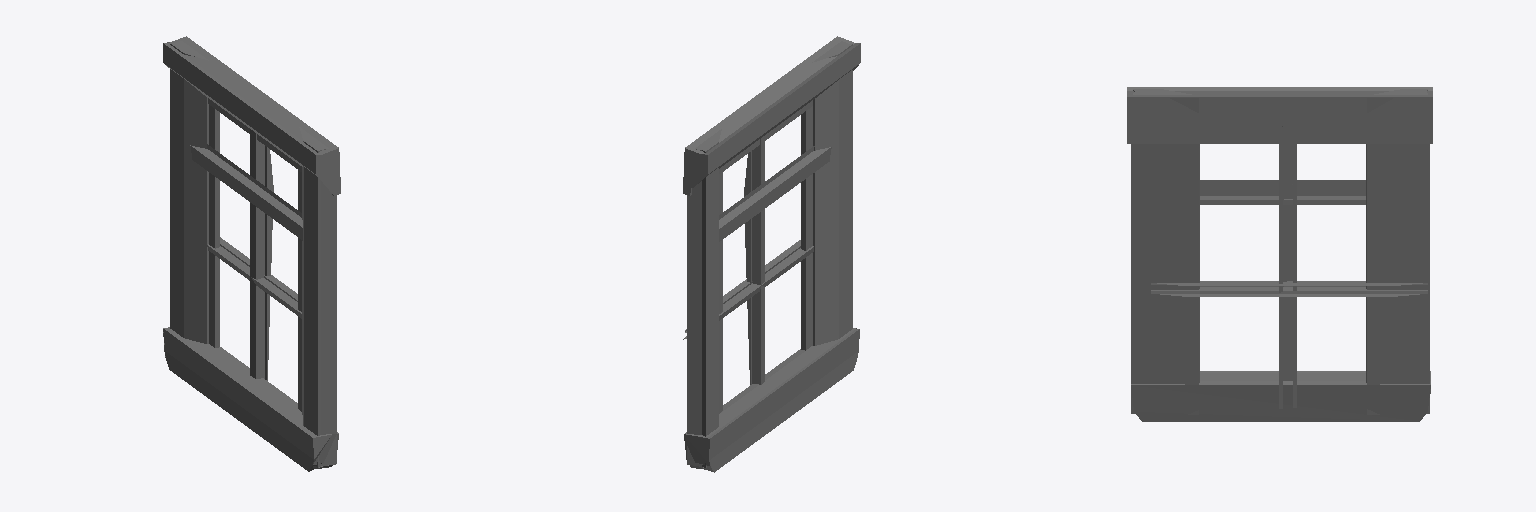
The model's file is complexwindow.obj.
3 views of the same model, side by side, from view 1: azimuth 30°, elevation 25°; view 2: azimuth 150°, elevation 25°; view 3: azimuth 270°, elevation 25° (orthographic).
Visible parts, largest first — view 1: polySurface1734; view 2: polySurface1734; view 3: polySurface1734.
Boxes of the visible parts, x1=… form: polySurface1734: x1=163, y1=36, x2=340, y2=471; polySurface1734: x1=683, y1=36, x2=860, y2=472; polySurface1734: x1=1127, y1=87, x2=1432, y2=421.
Size of the model in its own units: 0.0781 by 0.6956 by 0.5943.